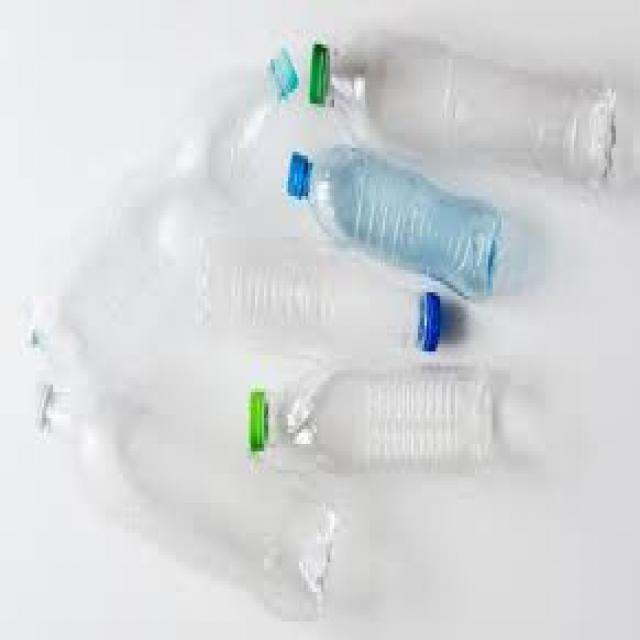plastic_bottle: (26, 46, 302, 385), (33, 381, 341, 621), (308, 26, 617, 194), (285, 146, 508, 306), (189, 234, 444, 359), (249, 370, 496, 479)
